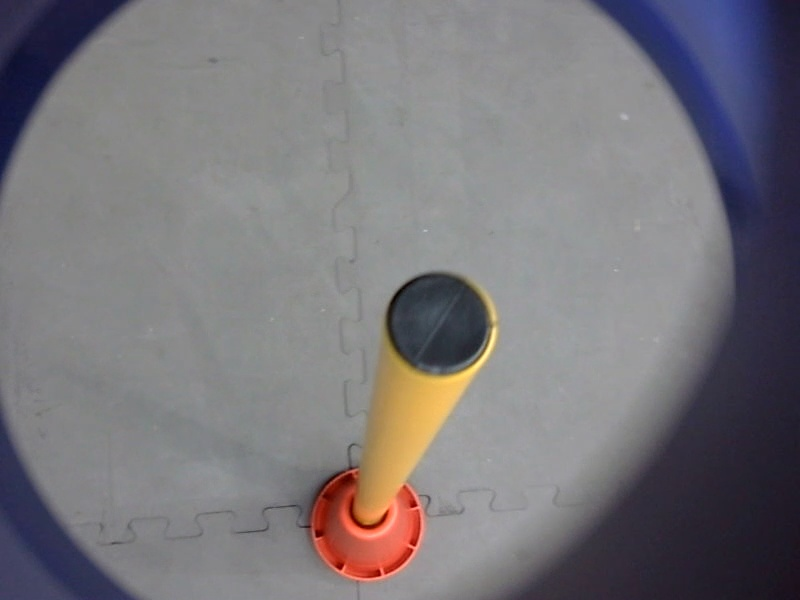tip: (377, 266, 505, 387)
